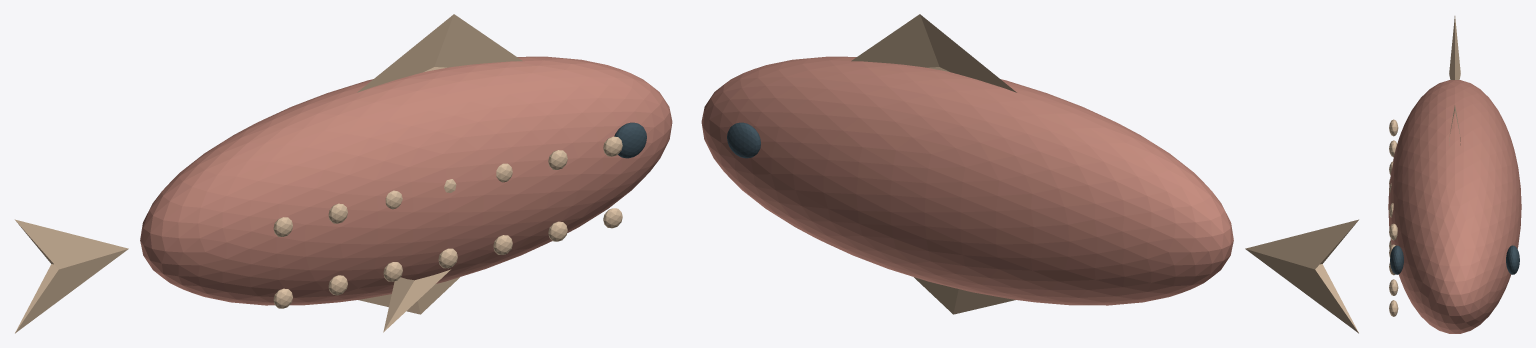
The model's file is Ikan_Kerapu_Bara.glb.
The picture shows the model from 3 angles, left to right: view 1: azimuth 30°, elevation 25°; view 2: azimuth 150°, elevation 25°; view 3: azimuth 270°, elevation 25°; orthographic projection. The views are drawn at different scales.
Parts seen in each view (by area): view 1: Part_00, Part_01, Part_02, Part_04, Part_05, Part_03; view 2: Part_00, Part_01, Part_02, Part_03, Part_06; view 3: Part_00, Part_01, Part_05, Part_06, Part_13, Part_12, Part_14, Part_19.
Part boxes in pixels (x1=…): Part_00: x1=140, y1=56, x2=672, y2=305; Part_01: x1=15, y1=219, x2=128, y2=333; Part_02: x1=357, y1=14, x2=522, y2=92; Part_04: x1=383, y1=269, x2=450, y2=332; Part_05: x1=614, y1=122, x2=646, y2=158; Part_03: x1=358, y1=277, x2=459, y2=314; Part_00: x1=701, y1=56, x2=1233, y2=305; Part_01: x1=1245, y1=219, x2=1358, y2=333; Part_02: x1=851, y1=14, x2=1016, y2=92; Part_03: x1=914, y1=277, x2=1015, y2=314; Part_06: x1=727, y1=122, x2=760, y2=158; Part_00: x1=1388, y1=80, x2=1521, y2=333; Part_01: x1=1449, y1=16, x2=1460, y2=79; Part_05: x1=1390, y1=245, x2=1403, y2=274; Part_06: x1=1506, y1=245, x2=1519, y2=274; Part_13: x1=1389, y1=300, x2=1398, y2=316; Part_12: x1=1389, y1=279, x2=1398, y2=295; Part_14: x1=1389, y1=119, x2=1398, y2=136; Part_19: x1=1389, y1=223, x2=1397, y2=240.
Bounding box in the file's own units: 1.51 × 0.6435 × 0.342.
